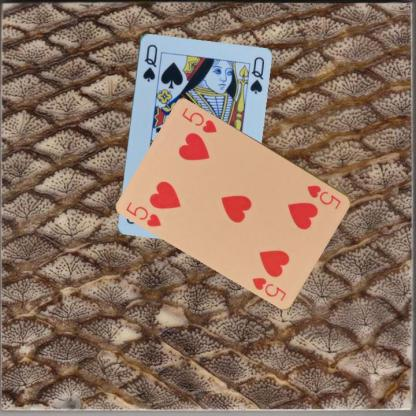5h: (124, 199, 163, 228), (304, 182, 342, 210)
Qs: (140, 42, 159, 82)
